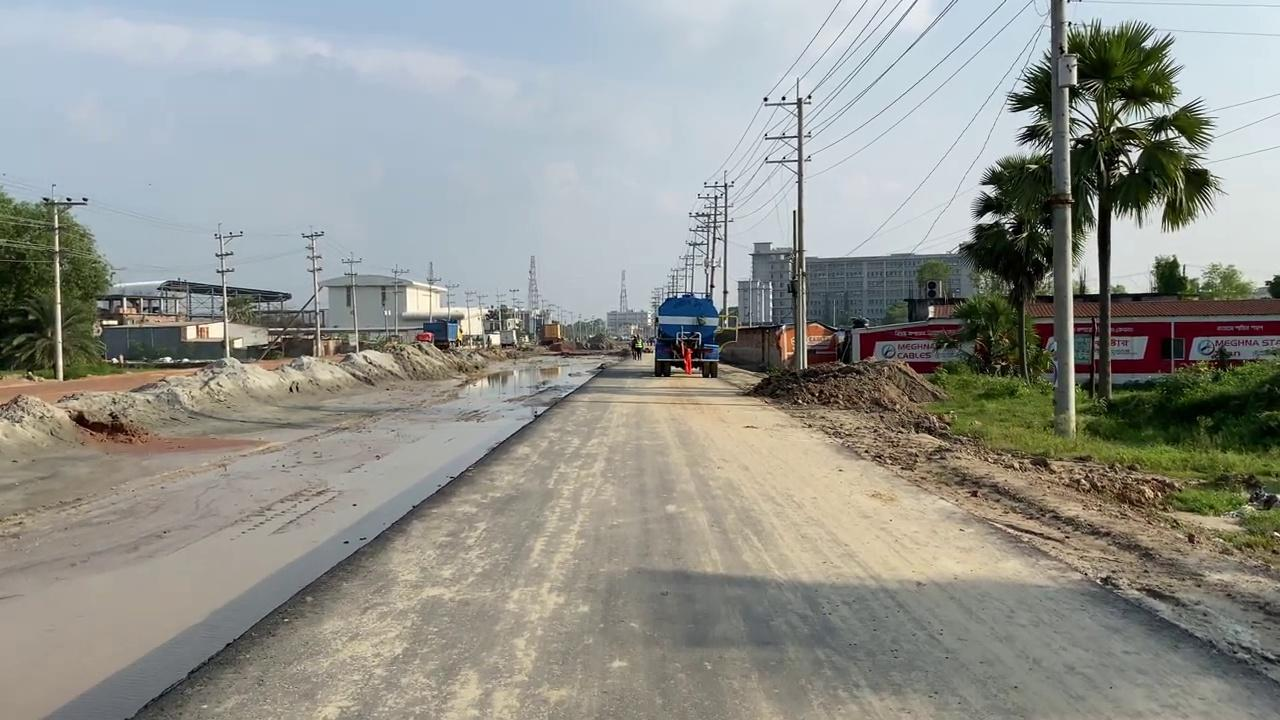Crosswalk: (4, 347, 1276, 718)
Curb: (1, 348, 626, 717)
Light-pole: (41, 183, 87, 380)
Pole: (1048, 0, 1077, 439)
Stuck-water: (682, 347, 692, 374)
Traffic-sign: (1003, 16, 1226, 403), (955, 151, 1090, 380)
Tree: (652, 169, 734, 377), (653, 292, 720, 377), (776, 320, 842, 367), (483, 304, 520, 348), (539, 322, 562, 346)
